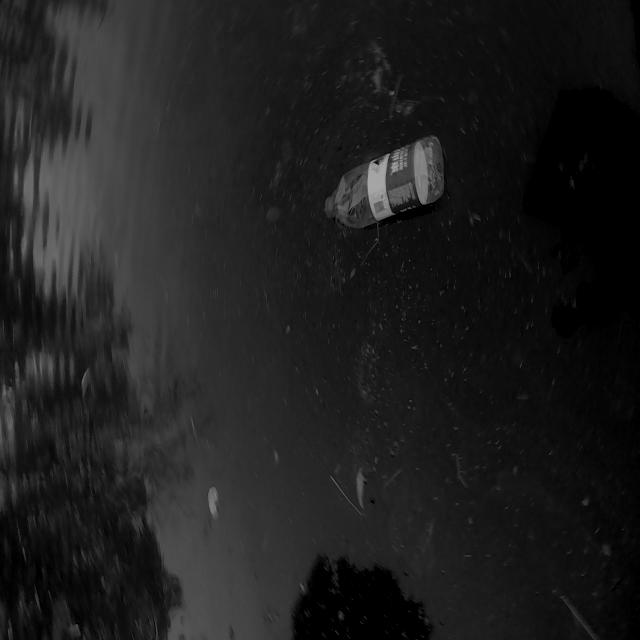bottle: (303, 104, 466, 258)
